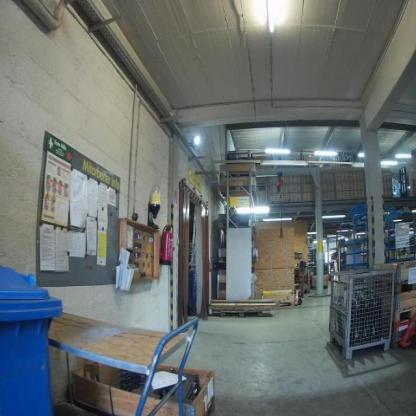pallet: (219, 309, 264, 320), (394, 304, 416, 326), (394, 278, 416, 296)
pallet_truck: (398, 309, 415, 349), (293, 258, 306, 310)
stillage: (329, 267, 396, 360)
